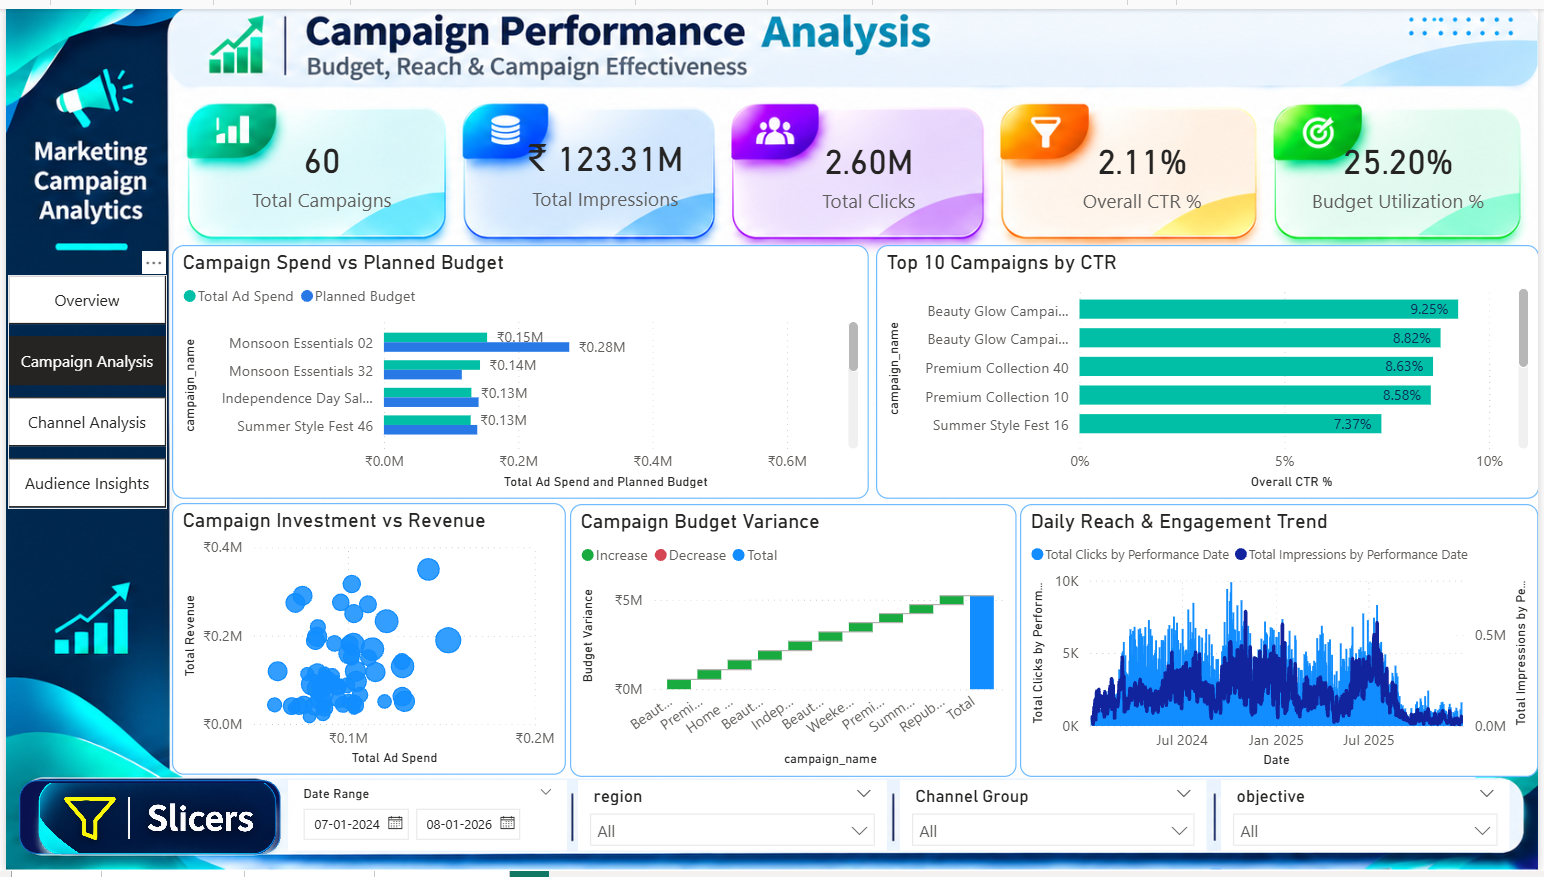

The page's visual inventory and layout, read from the dashboard file:
{"tool":"powerbi","page":{"name":"Campaign Analysis","canvas":[1280,720],"ordinal":1},"visuals":[{"type":"card","fields":{"Values":["_Measures.Total Campaigns"]},"box":[199.2,89.7,128.5,91.4],"z":0},{"type":"card","fields":{"Values":["_Measures.Total Impressions"]},"box":[424.8,88.6,150.7,91.4],"z":1000},{"type":"card","fields":{"Values":["_Measures.Total Clicks"]},"box":[656.4,90.6,128.5,91.4],"z":2000},{"type":"card","fields":{"Values":["_Measures.Overall CTR %"]},"box":[878.1,90.6,142.3,91.4],"z":3000},{"type":"card","fields":{"Values":["_Measures.Budget Utilization %"]},"box":[1080.8,90.6,163.9,91.4],"z":4000},{"type":"clusteredBarChart","title":"Campaign Spend vs Planned Budget","fields":{"Category":["marketing_campaigns campaigns.campaign_name"],"Y":["_Measures.Total Ad Spend","_Measures.Planned Budget"]},"box":[138.9,197.3,582,212],"z":5000},{"type":"clusteredBarChart","title":"Top 10 Campaigns by CTR","fields":{"Category":["marketing_campaigns campaigns.campaign_name"],"Y":["_Measures.Overall CTR %"]},"box":[726.3,197.3,553.7,212],"z":6000},{"type":"scatterChart","title":"Campaign Investment vs Revenue","fields":{"X":["_Measures.Total Ad Spend"],"Category":["marketing_campaigns campaigns.campaign_name"],"Y":["_Measures.Total Revenue"],"Size":["_Measures.Total Conversions"]},"box":[138.9,413,328.9,227.5],"z":7000},{"type":"waterfallChart","title":"Campaign Budget Variance","fields":{"Category":["marketing_campaigns campaigns.campaign_name"],"Y":["_Measures.Budget Variance"]},"box":[470.9,413.2,373.5,227.7],"z":8000},{"type":"lineClusteredColumnComboChart","title":"Daily Reach & Engagement Trend","fields":{"Category":["DimDate.Date"],"Y":["_Measures.Total Clicks by Performance Date"],"Y2":["_Measures.Total Impressions by Performance Date"]},"box":[847,413.2,433,227.7],"z":9000},{"type":"pageNavigator","box":[1.8,222,132.5,195.5],"z":10000},{"type":"slicer","fields":{"Values":["DimDate.Date"]},"box":[235.3,643.8,232.7,58.6],"z":11000},{"type":"slicer","fields":{"Values":["marketing_campaigns campaigns.region"]},"box":[478,643.8,257.9,58.6],"z":12000},{"type":"slicer","fields":{"Values":["marketing_campaigns marketing_channels.Channel Group"]},"box":[746.8,643.8,256.2,58.6],"z":13000},{"type":"slicer","fields":{"Values":["marketing_campaigns campaigns.objective"]},"box":[1014.7,643.8,241.1,58.6],"z":14000},{"type":"shape","box":[10.9,643.8,218.5,62],"z":15000},{"type":"image","box":[0,646.3,252.8,59.4],"z":16000}]}

Visuals, with their boxes on the page's 1280x720 design canvas (x1, y1, x2, y2). These are canvas units, not pixel positions in the 1544x877 screenshot, which may show the page scaled, cropped or inside an application window:
card - _Measures.Total Campaigns: [199, 90, 328, 181]
card - _Measures.Total Impressions: [425, 89, 576, 180]
card - _Measures.Total Clicks: [656, 91, 785, 182]
card - _Measures.Overall CTR %: [878, 91, 1020, 182]
card - _Measures.Budget Utilization %: [1081, 91, 1245, 182]
"Campaign Spend vs Planned Budget" clusteredBarChart: [139, 197, 721, 409]
"Top 10 Campaigns by CTR" clusteredBarChart: [726, 197, 1280, 409]
"Campaign Investment vs Revenue" scatterChart: [139, 413, 468, 640]
"Campaign Budget Variance" waterfallChart: [471, 413, 844, 641]
"Daily Reach & Engagement Trend" lineClusteredColumnComboChart: [847, 413, 1280, 641]
pageNavigator: [2, 222, 134, 418]
slicer - DimDate.Date: [235, 644, 468, 702]
slicer - marketing_campaigns campaigns.region: [478, 644, 736, 702]
slicer - marketing_campaigns marketing_channels.Channel Group: [747, 644, 1003, 702]
slicer - marketing_campaigns campaigns.objective: [1015, 644, 1256, 702]
shape: [11, 644, 229, 706]
image: [0, 646, 253, 706]
